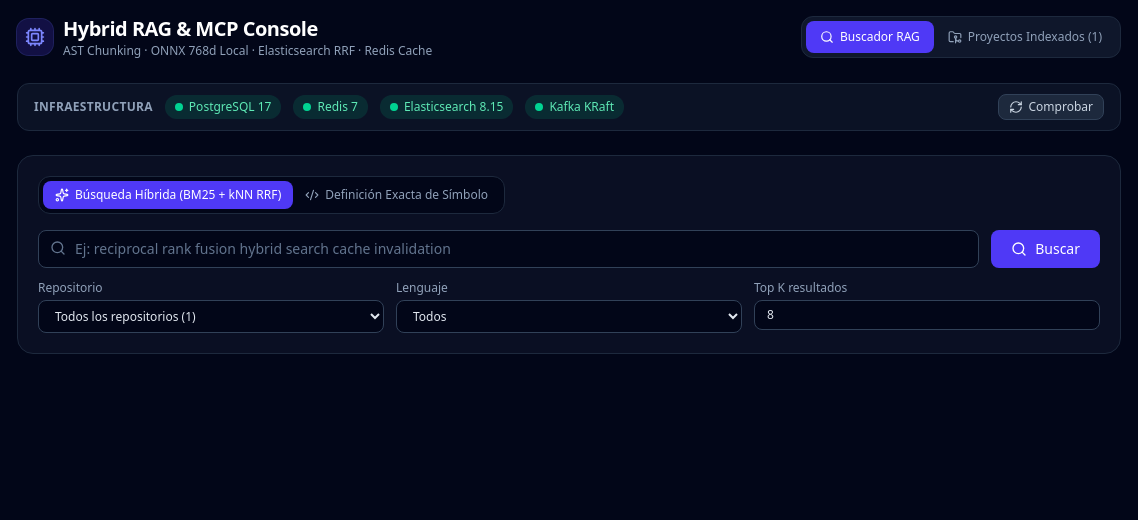
@rag/web Console › renders infrastructure health, performs hybrid search, and switches to repositories registry
Expected: the text "PostgreSQL 17" is shown, [165,95,282,119]
Expected: the button "Proyectos Indexados (1)" is shown, [934,21,1116,53]
In the field with placeholder "Ej: reciprocal rank fusion hybrid search cache invalidation": [509, 249] box [38,230,979,268], type "rrf"
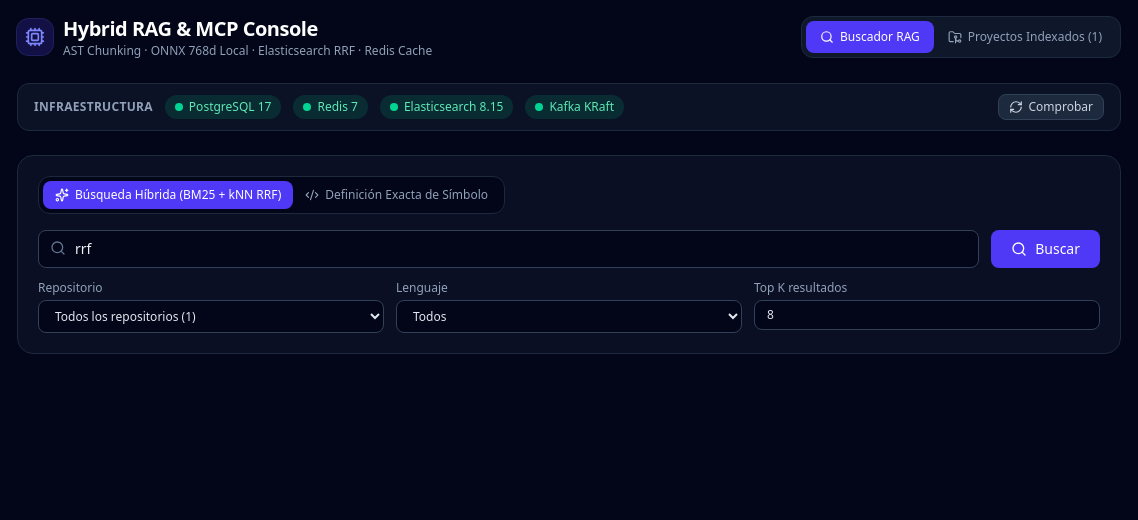
Click the button "Buscar": [1046, 249] box [991,230,1100,268]
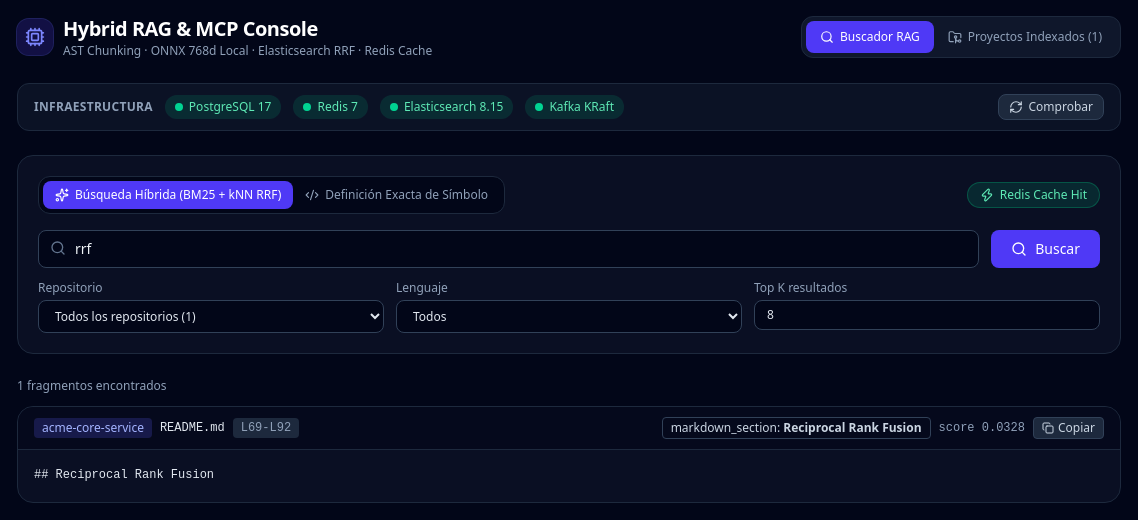
Now the text "Redis Cache Hit" is shown, box [967,182,1100,208]
Now the text "Reciprocal Rank Fusion" is shown, box [783,419,922,436]
Now the text "L69-L92" is shown, box [233,418,299,438]
Click the button "Proyectos Indexados (1)": [1025, 37] box [934,21,1116,53]
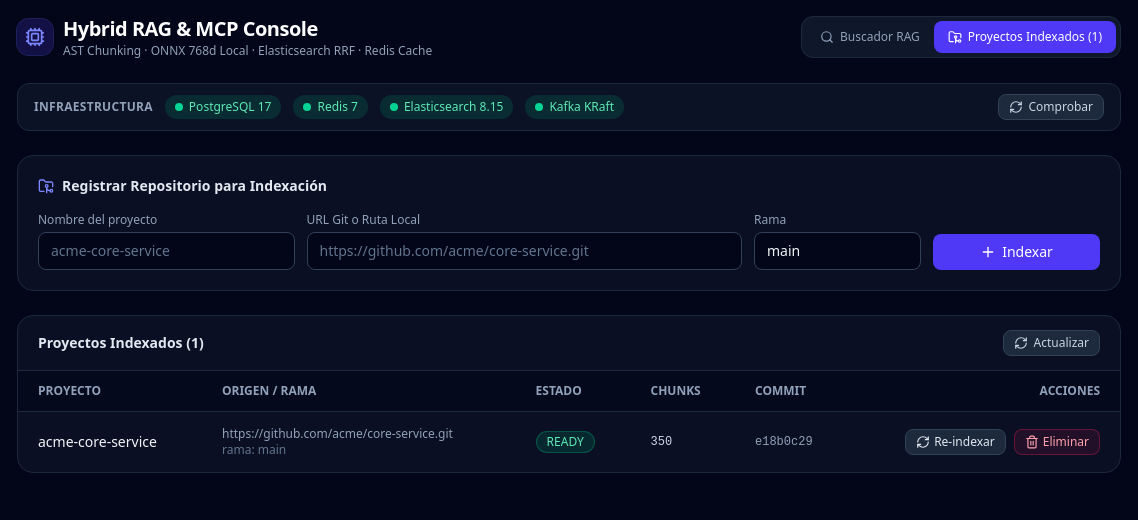
Now the text "350" is shown, box [630,412,735,472]
Now the text "READY" is shown, box [536,431,595,453]
